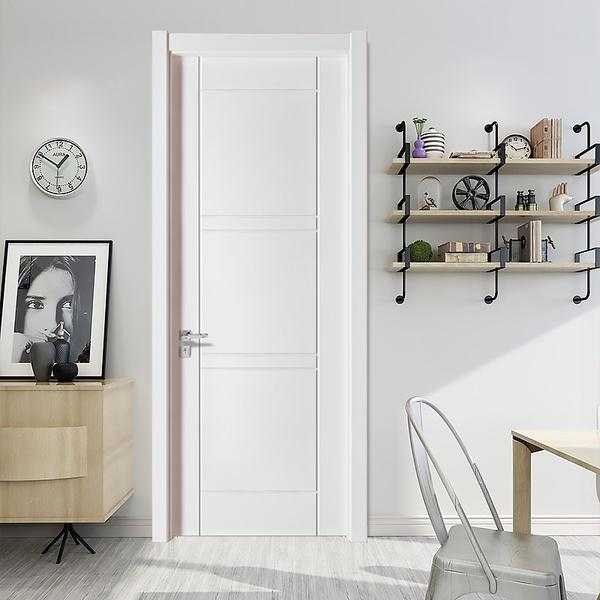door: (166, 51, 355, 539)
